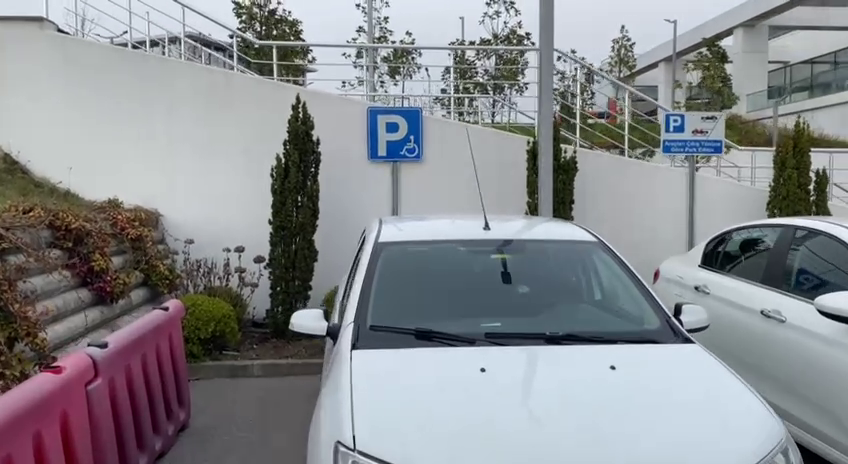parking: (365, 104, 425, 164), (664, 113, 687, 136)
